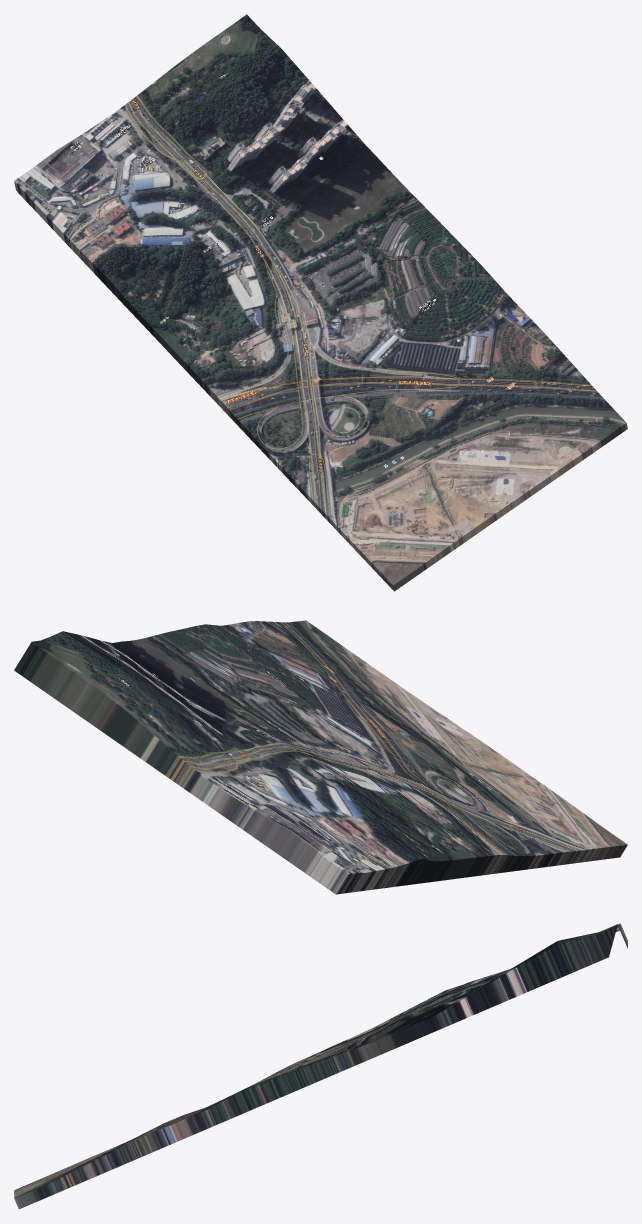
3 renders of one model, top to bottom at view 1: azimuth 30°, elevation 25°; view 2: azimuth 150°, elevation 25°; view 3: azimuth 270°, elevation 25°, orthographic. The views are drawn at different scales.
Visible parts, largest first — view 1: 1_2_16; view 2: 1_2_16; view 3: 1_2_16.
Part boxes in pixels (box(x1,y1,x2,y2)): 1_2_16: box(14, 14, 627, 591); 1_2_16: box(14, 620, 627, 894); 1_2_16: box(14, 923, 627, 1209).
Size of the model in its own units: 719 by 703 by 1128.
Materials: 1 (1 with a texture image).
